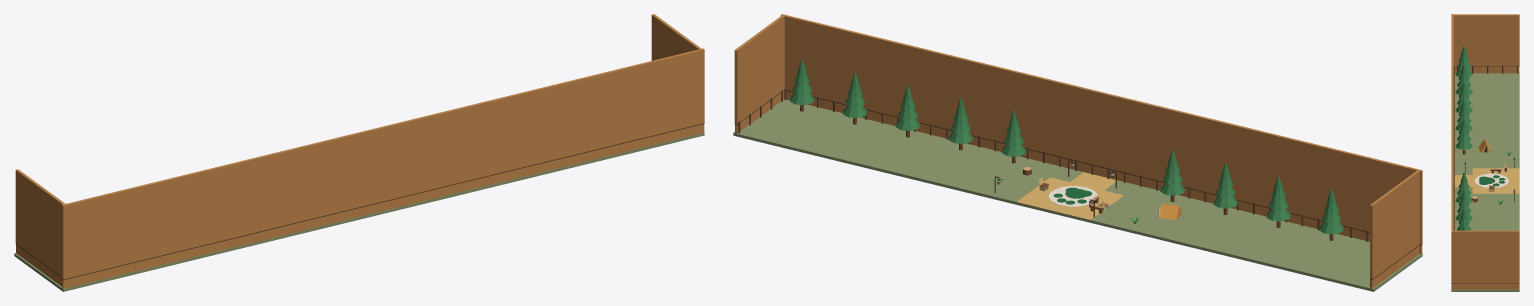
File: CatCafe_Camp_Woods.glb
3 renders of one model, left to right at view 1: azimuth 30°, elevation 25°; view 2: azimuth 150°, elevation 25°; view 3: azimuth 270°, elevation 25°, orthographic. The views are drawn at different scales.
Parts seen in each view (by area): view 1: CatCafe_Camp_Woods_Barrier, CatCafe_Camp_Woods; view 2: CatCafe_Camp_Woods_Barrier, CatCafe_Camp_Woods, CatCafe_Camp_Woods_007_PineTall, CatCafe_Camp_Woods_010_PineTall, CatCafe_Camp_Woods_008_PineTall, CatCafe_Camp_Woods_009_PineTall, CatCafe_Camp_Woods_014_PineTall, CatCafe_Camp_Woods_015_PineTall, CatCafe_Camp_Woods_016_PineTall, CatCafe_Camp_Woods_017_PineTall, CatCafe_Camp_Woods_018_PineTall; view 3: CatCafe_Camp_Woods, CatCafe_Camp_Woods_Barrier, CatCafe_Camp_Woods_007_PineTall, CatCafe_Camp_Woods_009_PineTall, CatCafe_Camp_Woods_010_PineTall, CatCafe_Camp_Woods_011_PineTall, CatCafe_Camp_Woods_014_PineTall, CatCafe_Camp_Woods_008_PineTall, CatCafe_Camp_Woods_015_PineTall, CatCafe_Camp_Woods_016_PineTall, CatCafe_Camp_Woods_001_Tent.
Boxes of the visible parts, x1=… form: CatCafe_Camp_Woods_Barrier: x1=15, y1=14, x2=704, y2=279; CatCafe_Camp_Woods: x1=14, y1=123, x2=704, y2=291; CatCafe_Camp_Woods_Barrier: x1=734, y1=14, x2=1422, y2=278; CatCafe_Camp_Woods: x1=733, y1=88, x2=1422, y2=291; CatCafe_Camp_Woods_007_PineTall: x1=1160, y1=150, x2=1184, y2=201; CatCafe_Camp_Woods_010_PineTall: x1=1319, y1=189, x2=1343, y2=240; CatCafe_Camp_Woods_008_PineTall: x1=1213, y1=163, x2=1237, y2=214; CatCafe_Camp_Woods_009_PineTall: x1=1266, y1=176, x2=1290, y2=227; CatCafe_Camp_Woods_014_PineTall: x1=1001, y1=111, x2=1026, y2=163; CatCafe_Camp_Woods_015_PineTall: x1=948, y1=98, x2=973, y2=150; CatCafe_Camp_Woods_016_PineTall: x1=895, y1=85, x2=920, y2=137; CatCafe_Camp_Woods_017_PineTall: x1=843, y1=72, x2=867, y2=124; CatCafe_Camp_Woods_018_PineTall: x1=790, y1=59, x2=814, y2=111; CatCafe_Camp_Woods: x1=1451, y1=65, x2=1519, y2=291; CatCafe_Camp_Woods_Barrier: x1=1451, y1=14, x2=1519, y2=283; CatCafe_Camp_Woods_007_PineTall: x1=1455, y1=118, x2=1472, y2=154; CatCafe_Camp_Woods_009_PineTall: x1=1455, y1=82, x2=1472, y2=113; CatCafe_Camp_Woods_010_PineTall: x1=1455, y1=64, x2=1472, y2=95; CatCafe_Camp_Woods_011_PineTall: x1=1455, y1=46, x2=1472, y2=76; CatCafe_Camp_Woods_014_PineTall: x1=1455, y1=172, x2=1472, y2=203; CatCafe_Camp_Woods_008_PineTall: x1=1455, y1=100, x2=1472, y2=131; CatCafe_Camp_Woods_015_PineTall: x1=1455, y1=190, x2=1472, y2=221; CatCafe_Camp_Woods_016_PineTall: x1=1457, y1=208, x2=1471, y2=230; CatCafe_Camp_Woods_001_Tent: x1=1478, y1=139, x2=1494, y2=152.
Bounding box in the file's own units: 242 × 31 × 32.
Materials: 1 (1 with a texture image).
